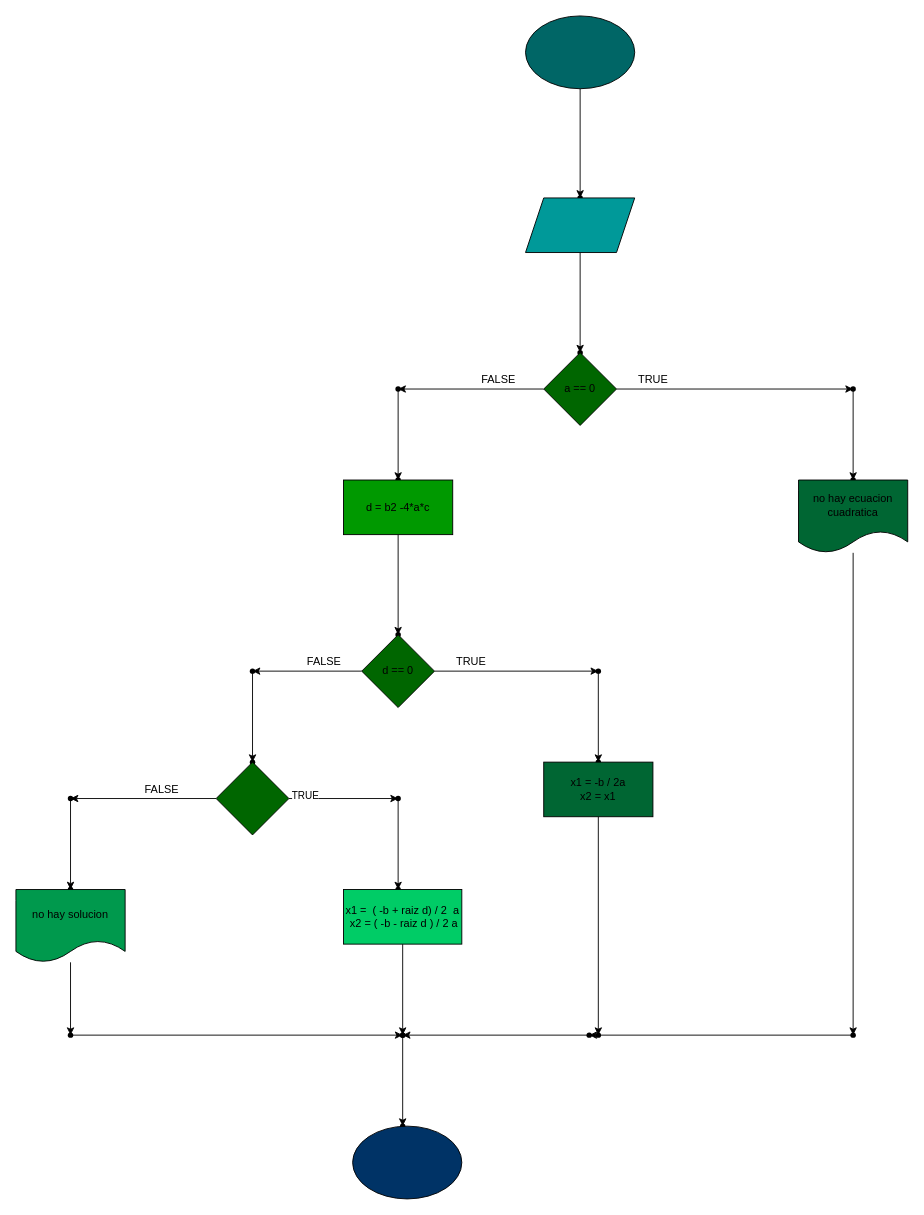
Some shapes in this 924 by 1215 pixel diagram are drawn without their labels. The centre of each missing label's shape, as x and y in pixels:
"a , b , c" goes at (x=580, y=225).
"d > 0" goes at (x=252, y=798).
"FIN" goes at (x=407, y=1162).
"INICIO" goes at (x=580, y=52).
